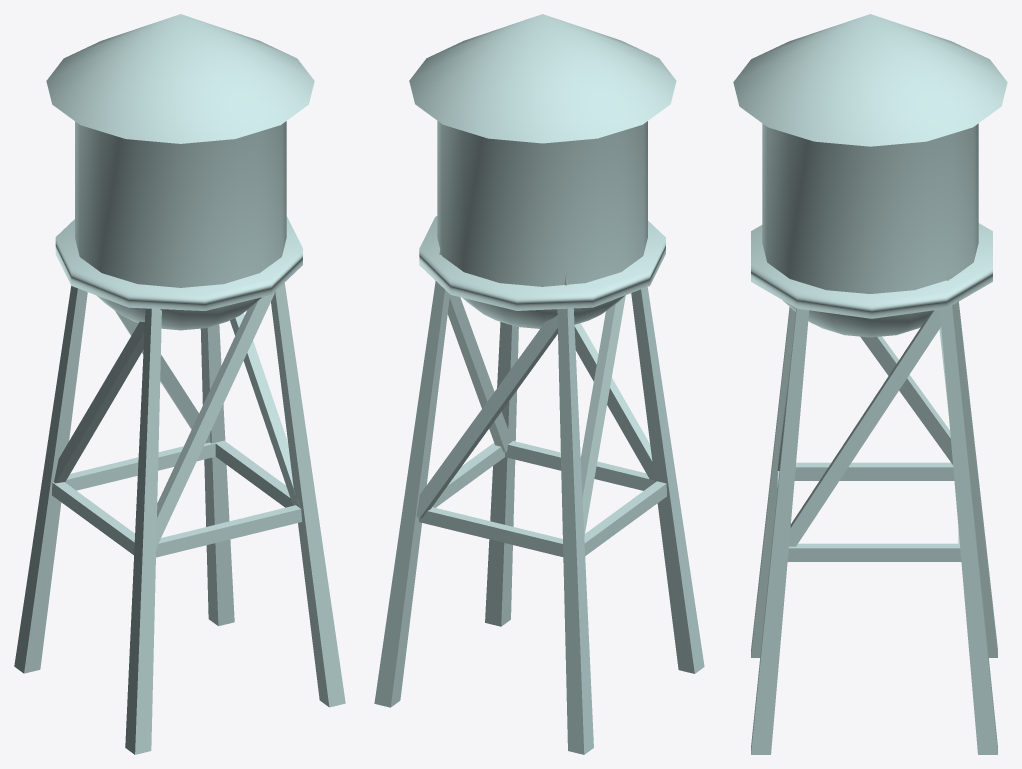
File: Studio2.fbx
The picture shows the model from 3 angles, left to right: view 1: azimuth 30°, elevation 25°; view 2: azimuth 150°, elevation 25°; view 3: azimuth 270°, elevation 25°; orthographic projection. The views are drawn at different scales.
Parts seen in each view (by area): view 1: Space_Racer__Studios:pSphere2; view 2: Space_Racer__Studios:pSphere2; view 3: Space_Racer__Studios:pSphere2.
Part boxes in pixels (<box>): Space_Racer__Studios:pSphere2: <box>14,14,345,754</box>; Space_Racer__Studios:pSphere2: <box>374,14,704,754</box>; Space_Racer__Studios:pSphere2: <box>733,14,1007,754</box>.
Bounding box in the file's own units: 29.74 × 82.71 × 29.9.
